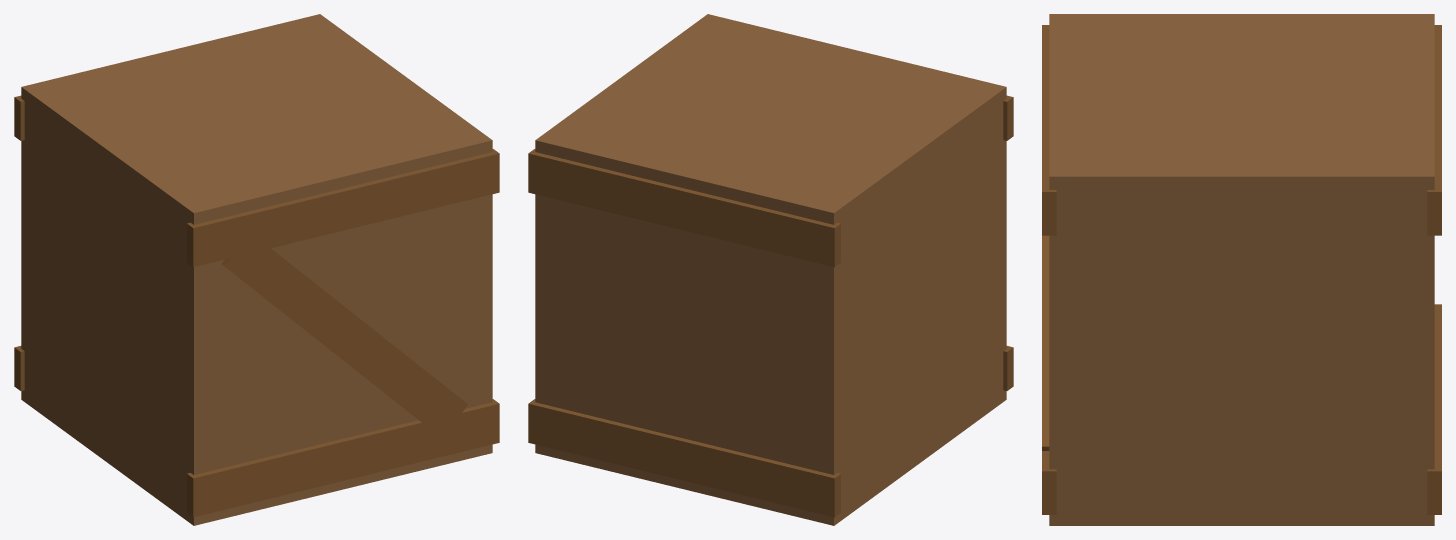
The model's file is thung_go.glb.
The picture shows the model from 3 angles, left to right: view 1: azimuth 30°, elevation 25°; view 2: azimuth 150°, elevation 25°; view 3: azimuth 270°, elevation 25°; orthographic projection. The views are drawn at different scales.
Parts seen in each view (by area): view 1: thung_go; view 2: thung_go; view 3: thung_go.
Part boxes in pixels (left/top/right/bottom): thung_go: left=14, top=14, right=499, bottom=525; thung_go: left=528, top=14, right=1013, bottom=525; thung_go: left=1042, top=14, right=1441, bottom=525.
Bounding box in the file's own units: 0.82 × 0.8 × 0.83.
